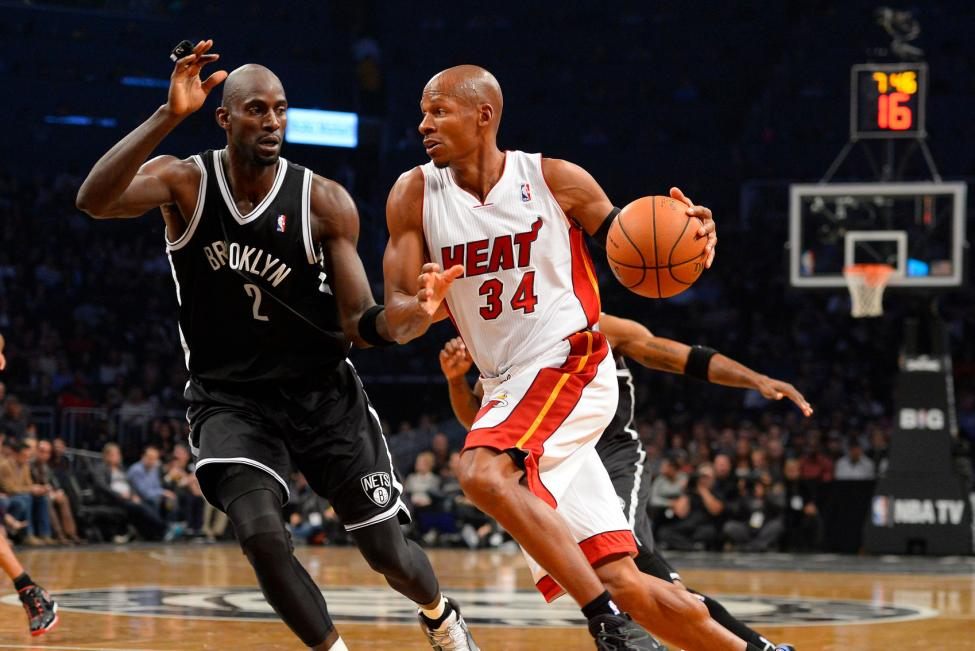Basketball: (603, 194, 712, 302)
